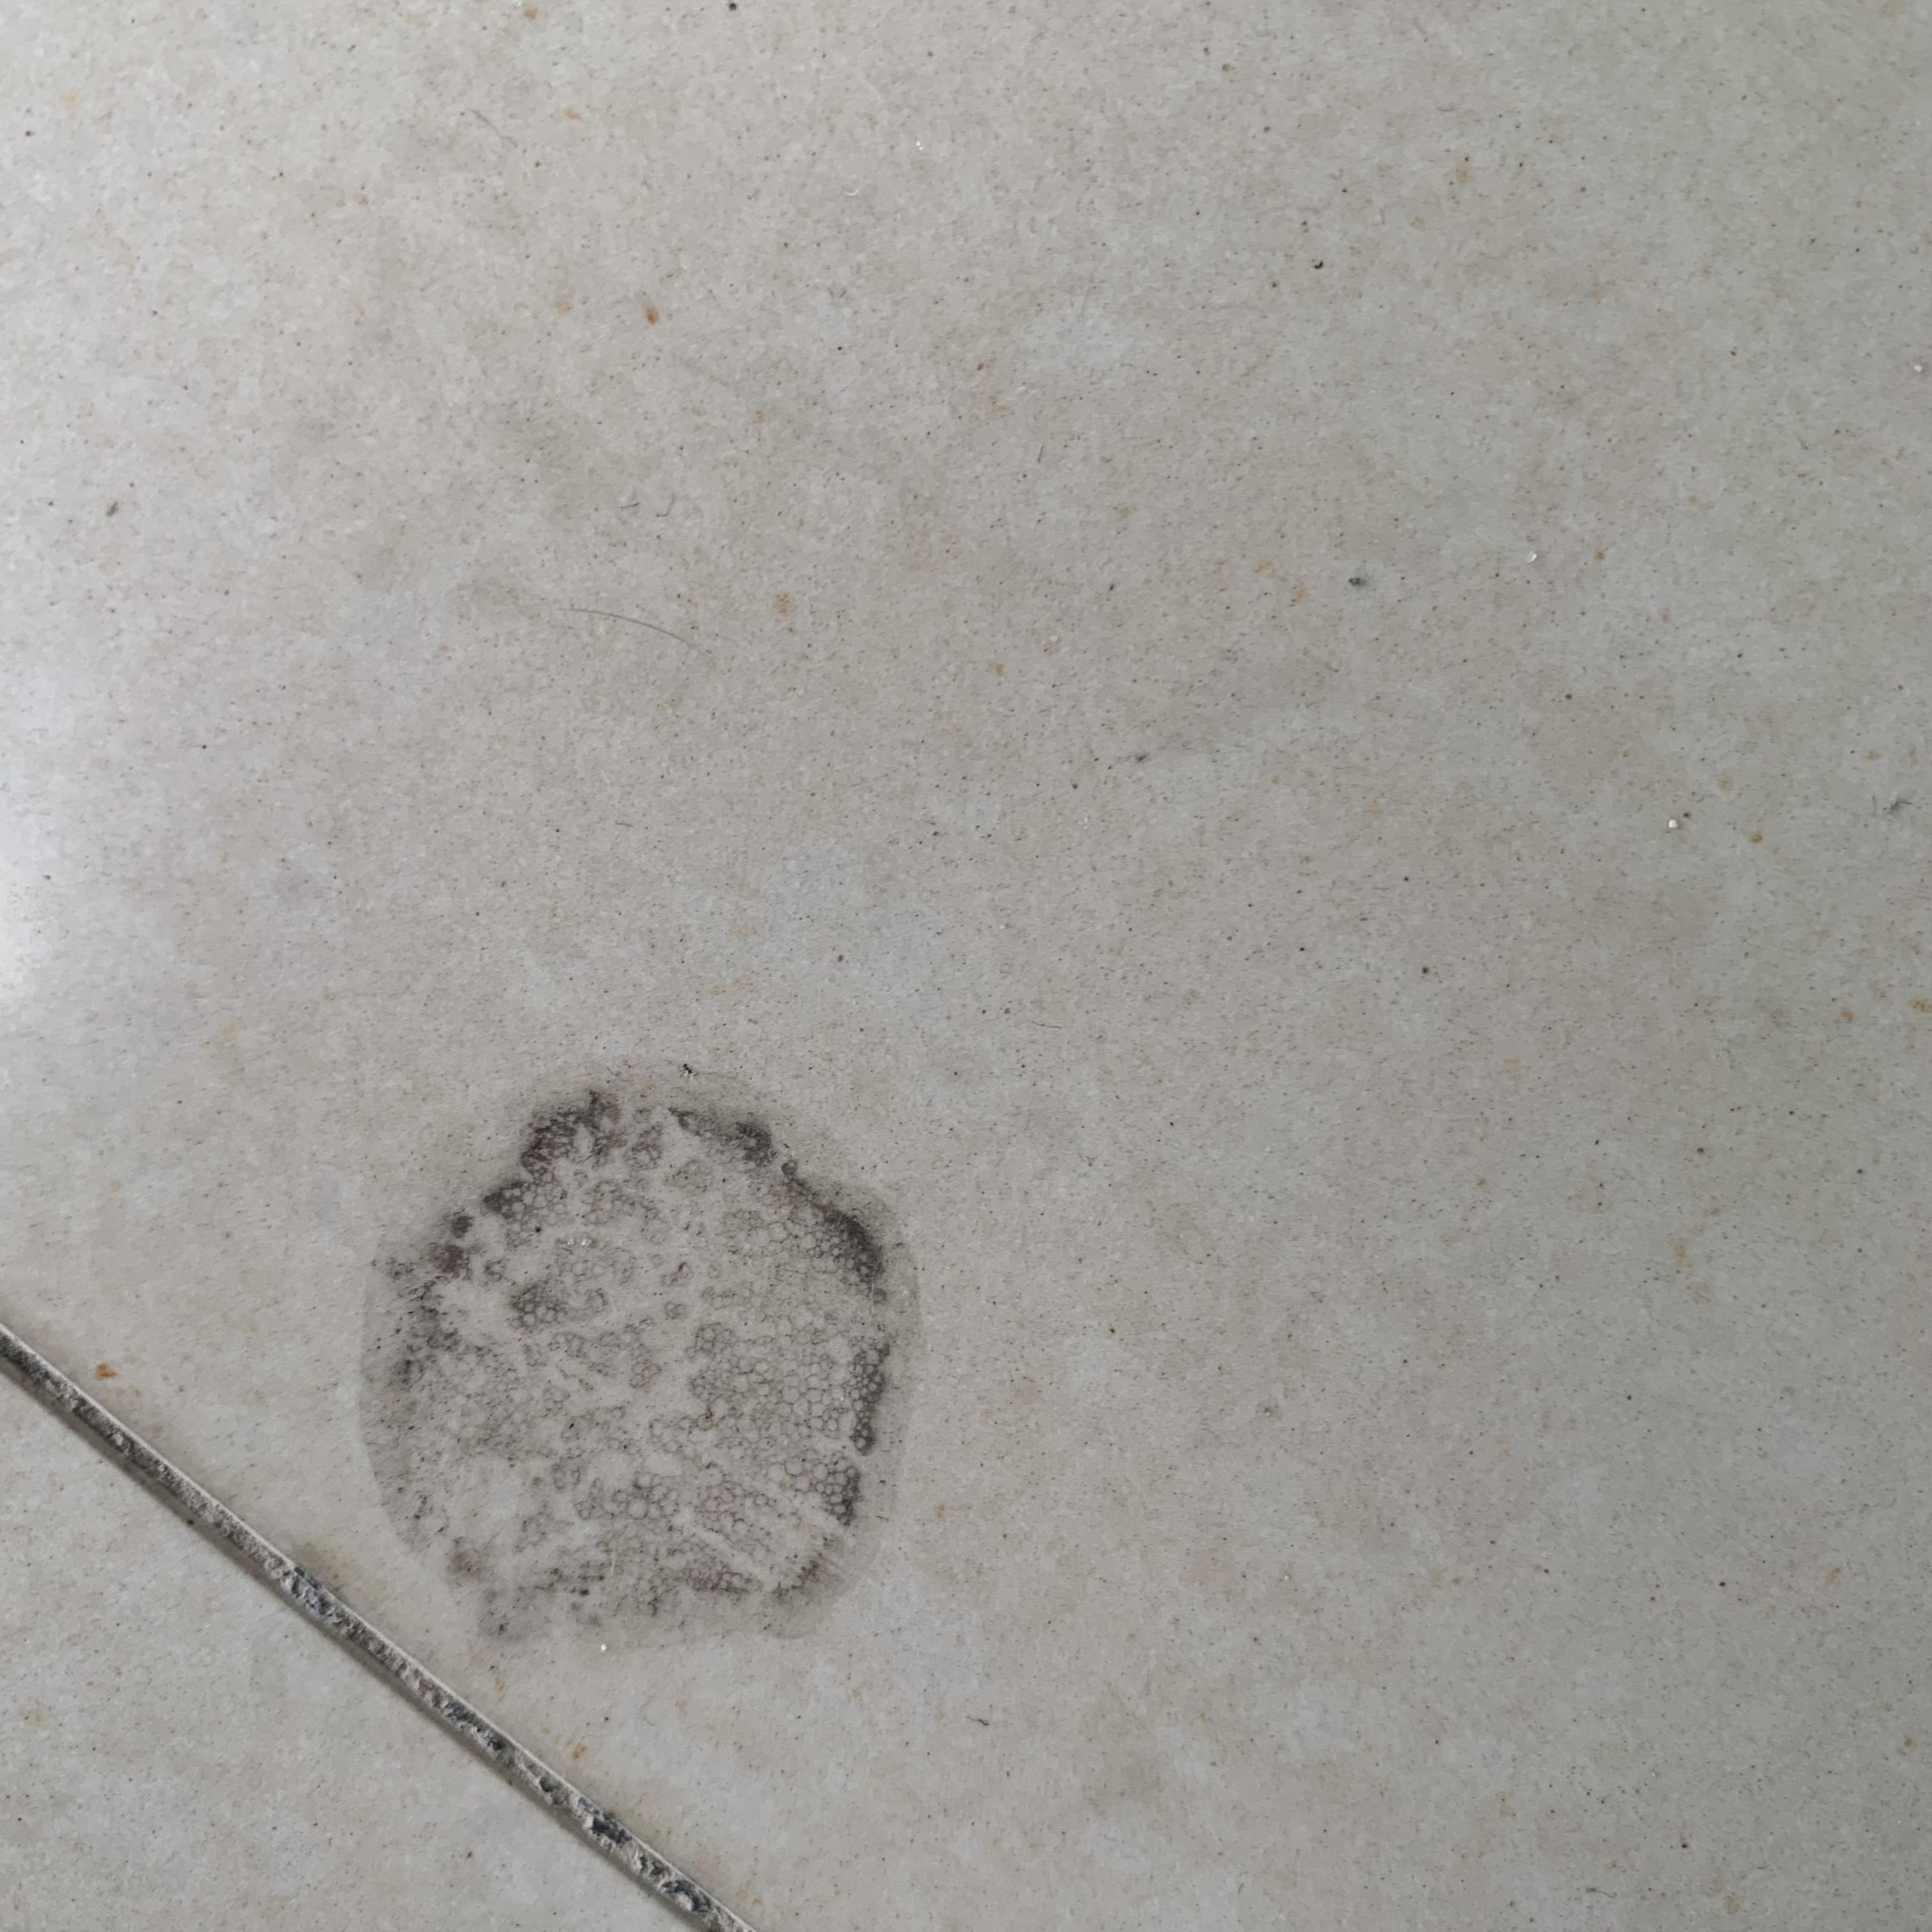grey spot: (356, 1060, 925, 1651)
